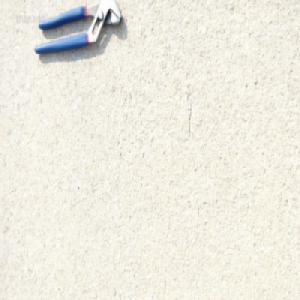Pliers: (32, 0, 122, 57)
